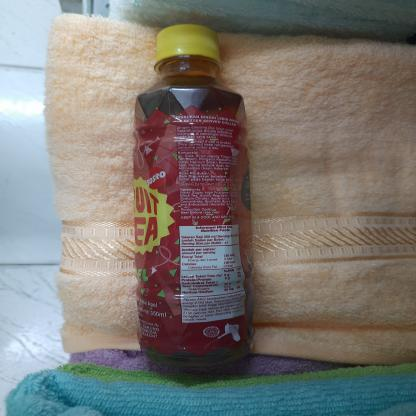bottle: (126, 22, 255, 370)
